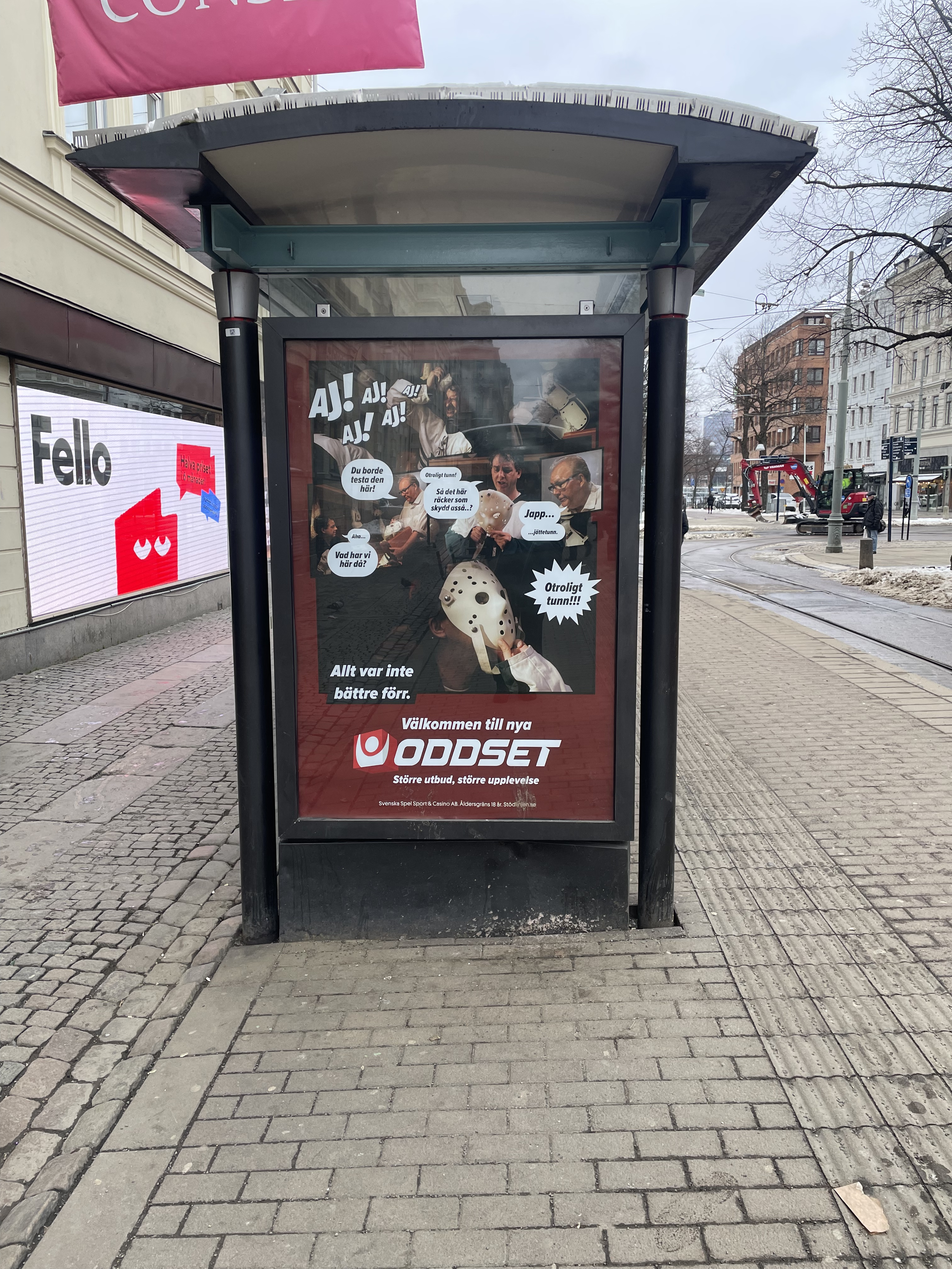advertisement: (280, 327, 623, 831)
